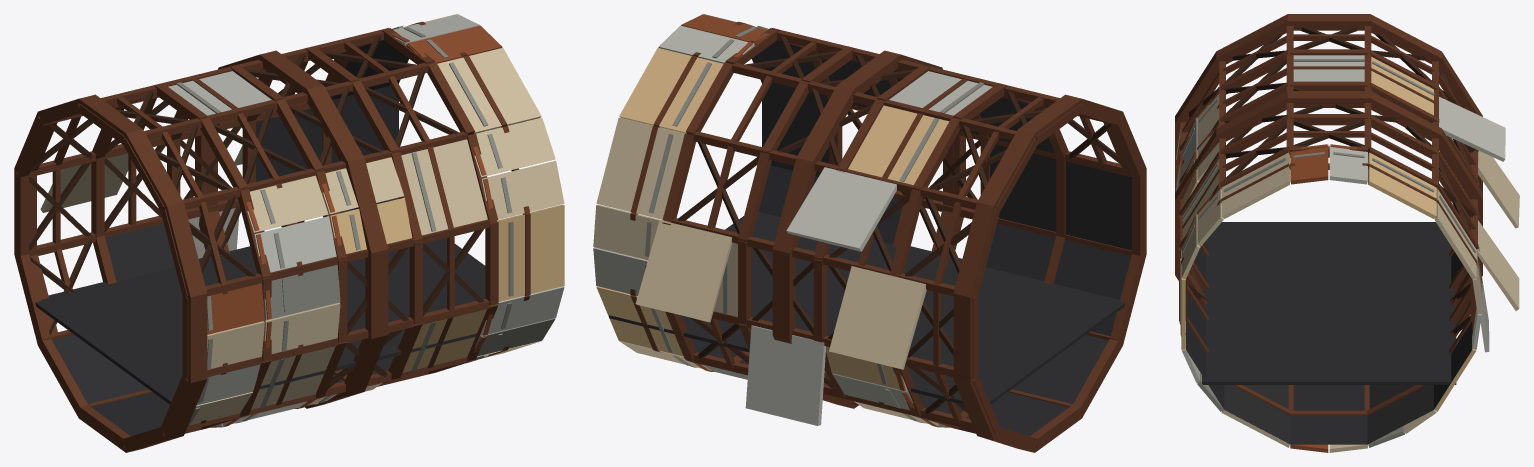
File: ship_hull_ribs.glb
The picture shows the model from 3 angles, left to right: view 1: azimuth 30°, elevation 25°; view 2: azimuth 150°, elevation 25°; view 3: azimuth 270°, elevation 25°; orthographic projection. The views are drawn at different scales.
Visible parts, largest first — view 1: ship_hull_ribs; view 2: ship_hull_ribs; view 3: ship_hull_ribs.
Boxes of the visible parts, x1=… form: ship_hull_ribs: x1=14, y1=14, x2=564, y2=452; ship_hull_ribs: x1=593, y1=14, x2=1146, y2=452; ship_hull_ribs: x1=1175, y1=14, x2=1519, y2=452.
Size of the model in its own units: 45.1 by 36.32 by 40.66.
